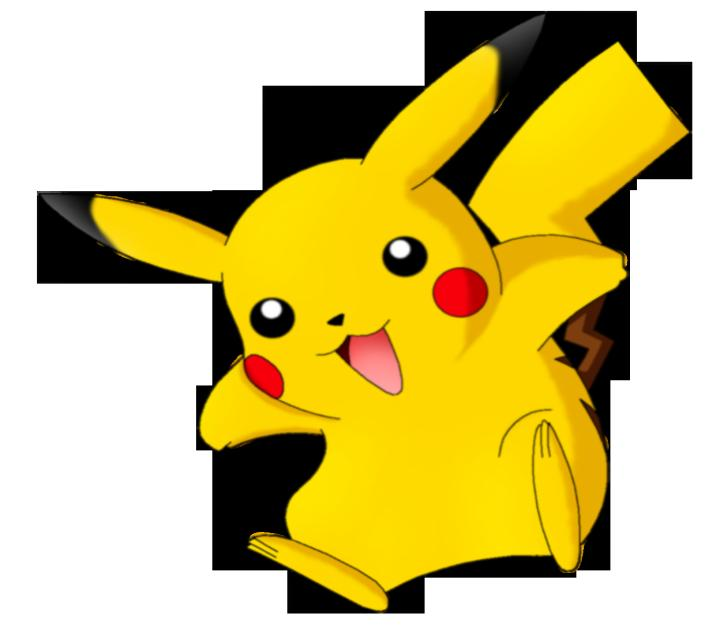Pikachu: (47, 18, 689, 622)
